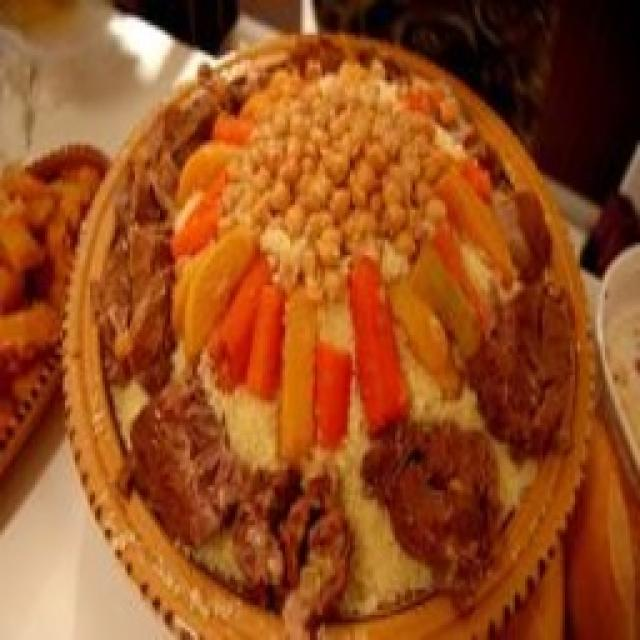Couscous: (70, 36, 594, 640)
